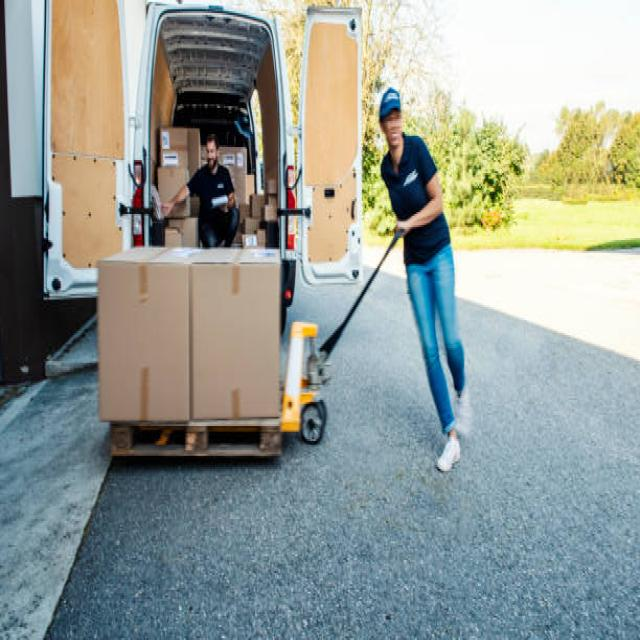Wooden-Pallets: (107, 412, 282, 461)
